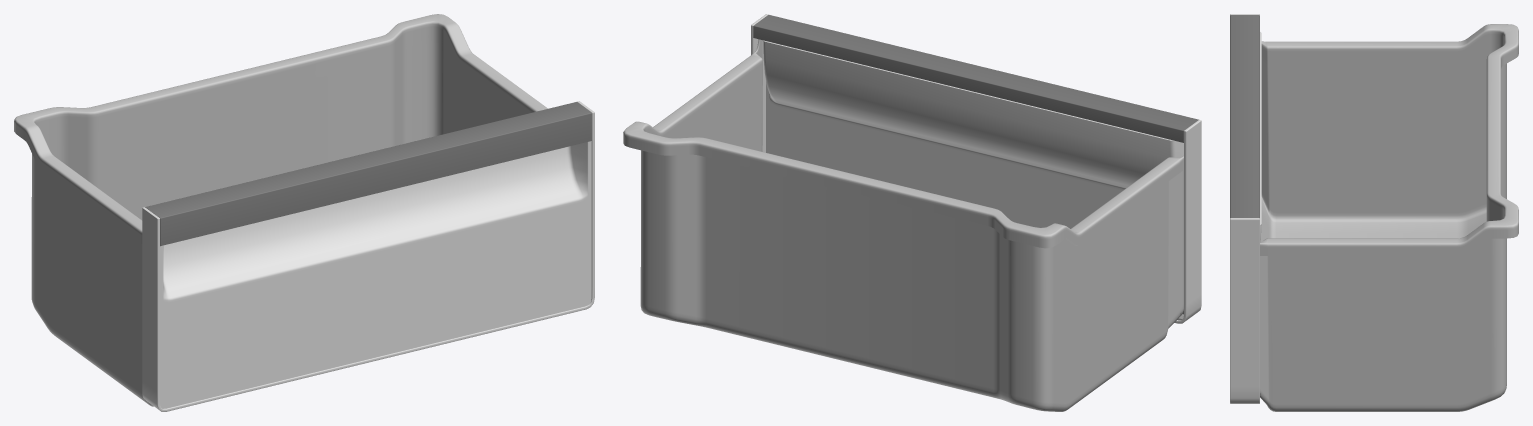
The model's file is SM_Fridge_Drawer_05.dae.
The picture shows the model from 3 angles, left to right: view 1: azimuth 30°, elevation 25°; view 2: azimuth 150°, elevation 25°; view 3: azimuth 270°, elevation 25°; orthographic projection. The views are drawn at different scales.
Parts seen in each view (by area): view 1: SM_Fridge_Drawer_05; view 2: SM_Fridge_Drawer_05; view 3: SM_Fridge_Drawer_05.
Boxes of the visible parts, x1,y1,x2,y2 form: SM_Fridge_Drawer_05: (14,14,594,411); SM_Fridge_Drawer_05: (623,14,1201,411); SM_Fridge_Drawer_05: (1230,14,1518,411).
Bounding box in the file's own units: 0.409 × 0.243 × 0.187.
